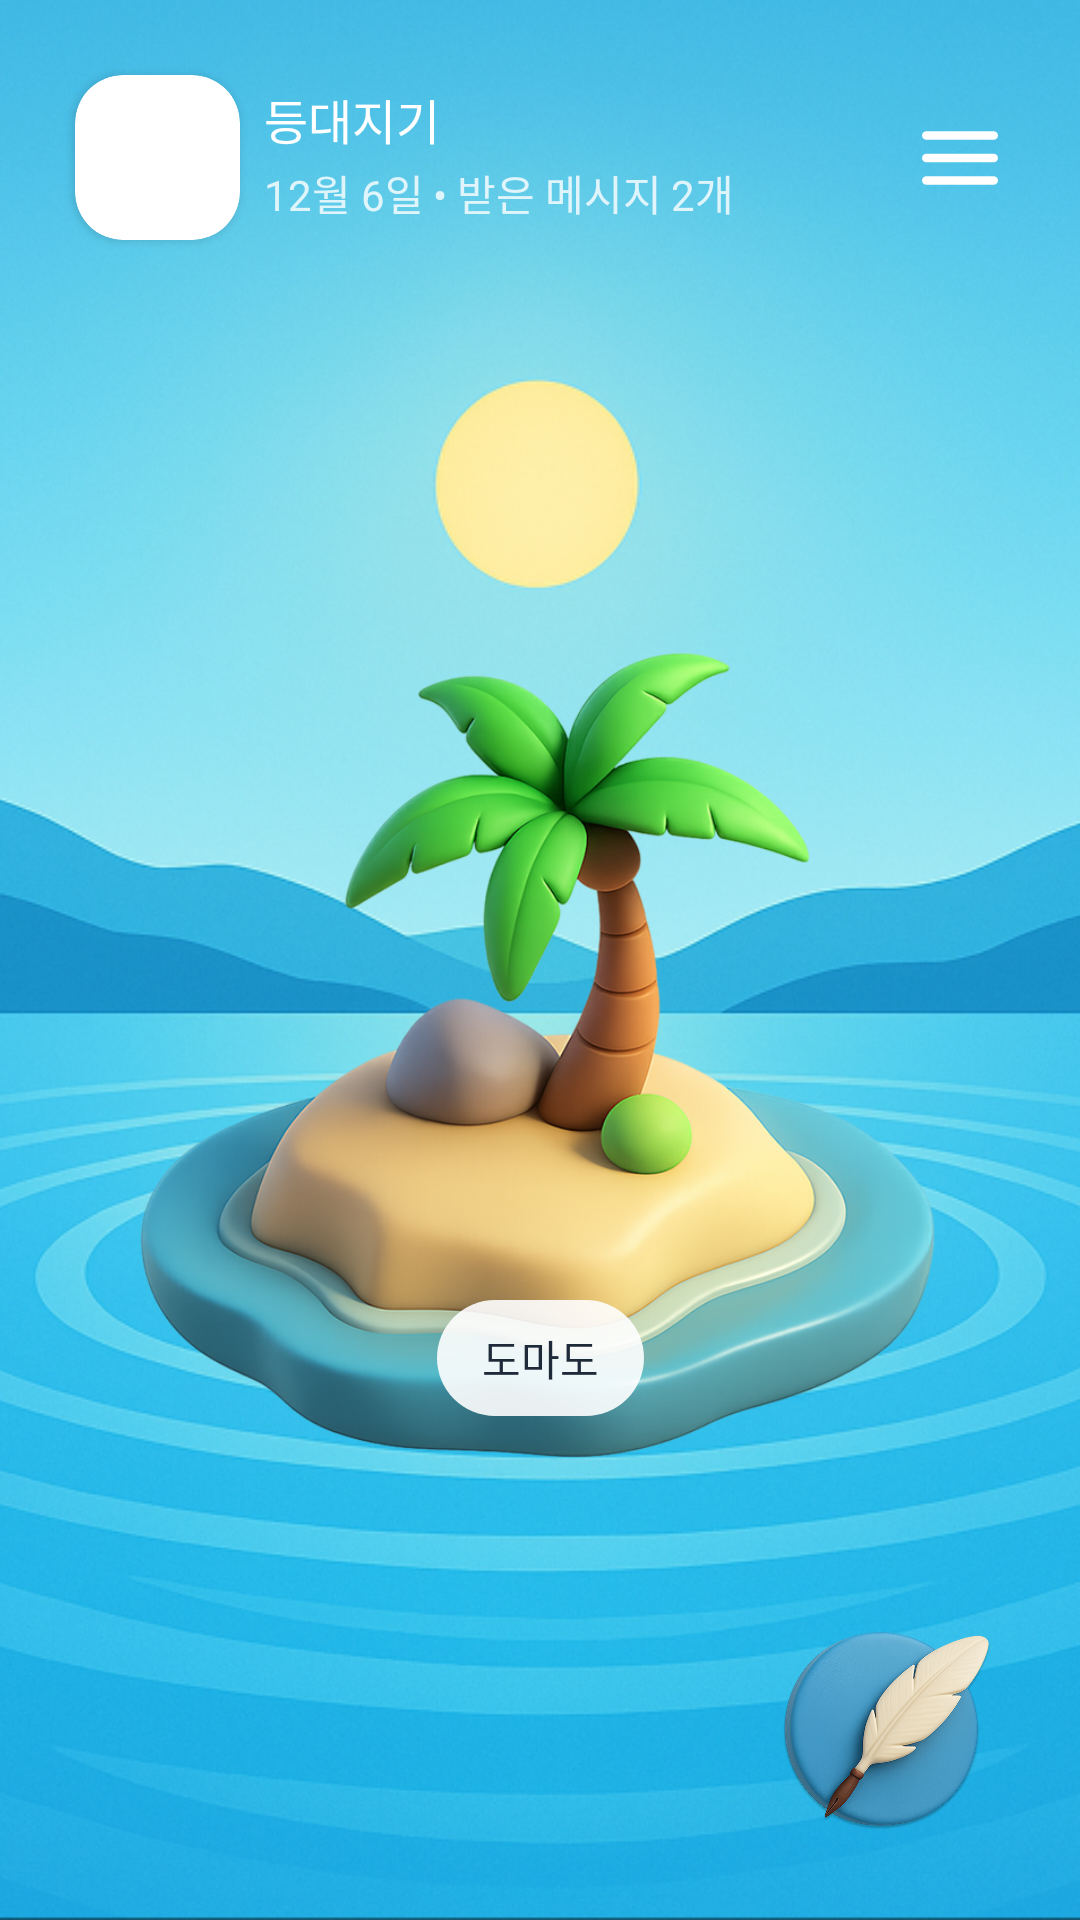

Locate icon controls on the screen. Image size 1080px x 1920px, boxes as [x1, y1, x2, y2].
fab write: [765, 1605, 1020, 1828]
menu: [922, 131, 998, 185]
